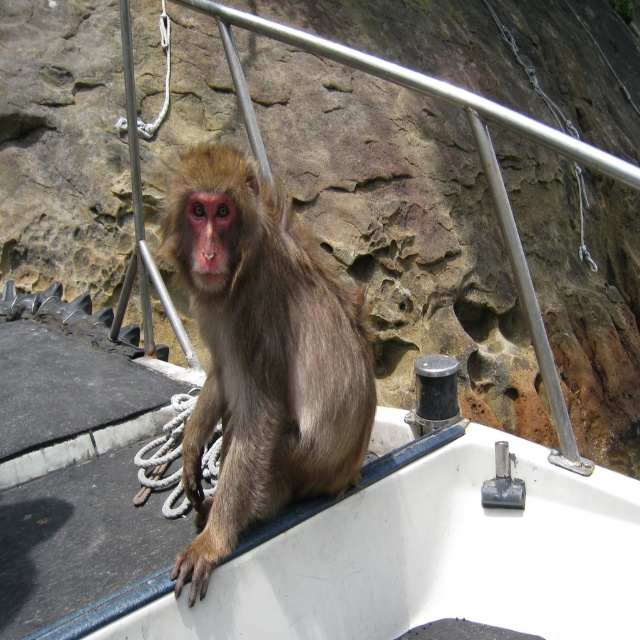Monkey: (164, 143, 378, 605)
